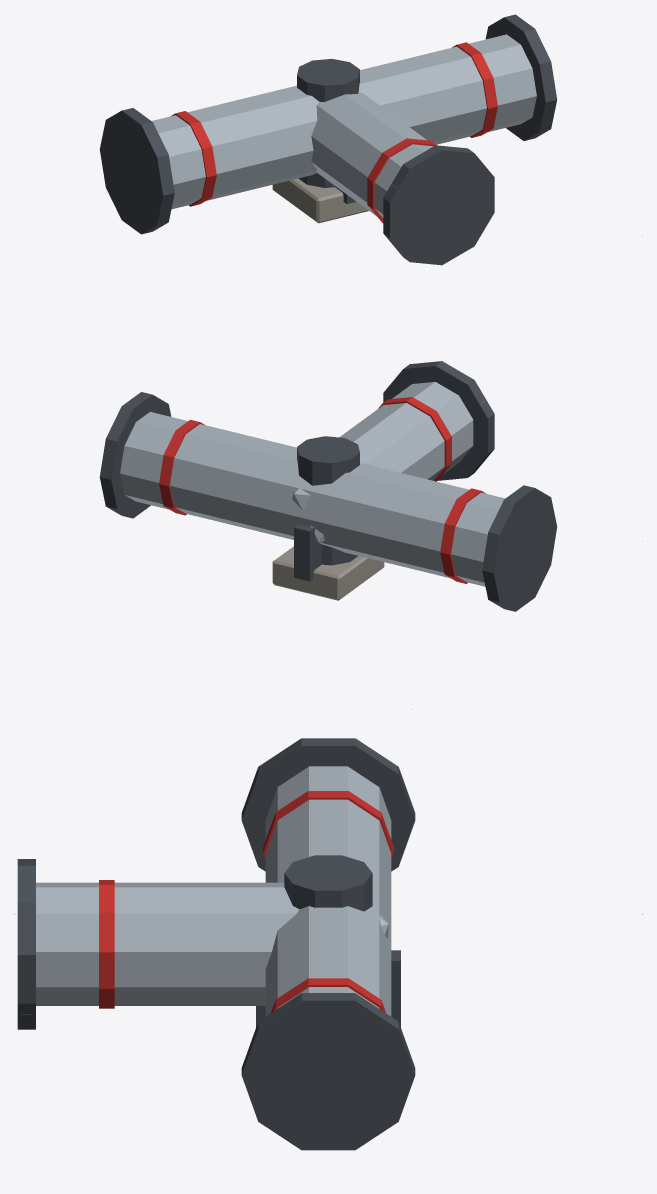
File: tuyau_te_t3.glb
3 renders of one model, top to bottom at view 1: azimuth 30°, elevation 25°; view 2: azimuth 150°, elevation 25°; view 3: azimuth 270°, elevation 25°, orthographic. The views are drawn at different scales.
Visible parts, largest first — view 1: pieces_inox.014, pieces_acier_sombre.044, pieces_rive_t3.014, pieces_beton.044; view 2: pieces_inox.014, pieces_acier_sombre.044, pieces_rive_t3.014, pieces_beton.044; view 3: pieces_inox.014, pieces_acier_sombre.044, pieces_rive_t3.014.
Part boxes in pixels (box(x1,y1,x2,y2)): pieces_inox.014: box(152, 34, 536, 217); pieces_acier_sombre.044: box(99, 14, 557, 265); pieces_rive_t3.014: box(171, 42, 497, 222); pieces_beton.044: box(272, 178, 368, 223); pieces_inox.014: box(120, 382, 505, 586); pieces_acier_sombre.044: box(99, 361, 557, 611); pieces_rive_t3.014: box(159, 397, 485, 583); pieces_beton.044: box(272, 546, 384, 600); pieces_inox.014: box(36, 766, 391, 1016); pieces_acier_sombre.044: box(17, 738, 415, 1150); pieces_rive_t3.014: box(99, 791, 393, 1012).
Size of the model in its own units: 1 by 0.318 by 1.
